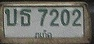txt19: (18, 7, 31, 27)
txt21: (4, 7, 18, 27)
